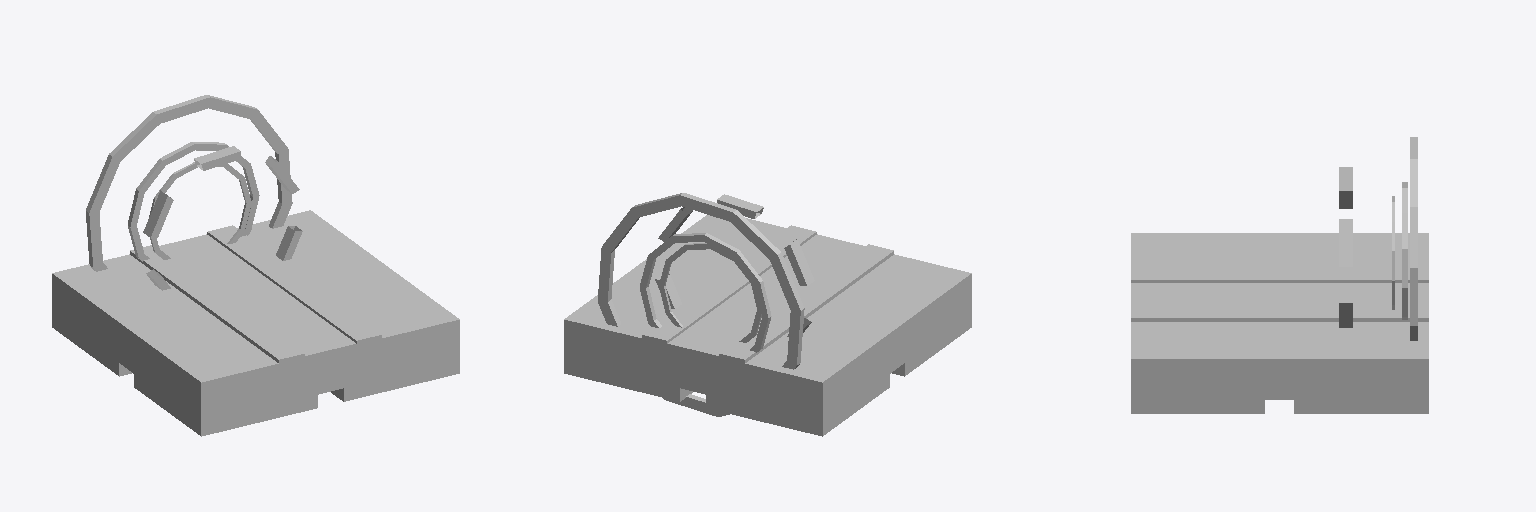
The model's file is puzzlePiece_portal.obj.
3 views of the same model, side by side, from view 1: azimuth 30°, elevation 25°; view 2: azimuth 150°, elevation 25°; view 3: azimuth 270°, elevation 25° (orthographic).
Visible parts, largest first — view 1: pCube1, polySurface5, polySurface2 pCube5, pPipe3, pPipe4, pPipe2, pPipe1; view 2: pCube1, polySurface5, pPipe3, polySurface2 pCube5, pPipe2, pPipe4, pPipe1; view 3: pCube1, polySurface5, polySurface2 pCube5, pPipe3, pPipe4, pPipe2.
Boxes of the visible parts, box(x1,y1,x2,y2) form: pCube1: box(52, 210, 459, 436); polySurface5: box(130, 225, 381, 366); polySurface2 pCube5: box(159, 234, 356, 357); pPipe3: box(86, 95, 292, 271); pPipe4: box(143, 146, 302, 290); pPipe2: box(128, 142, 259, 261); pPipe1: box(149, 162, 251, 259); pCube1: box(564, 215, 971, 436); polySurface5: box(642, 225, 893, 364); pPipe3: box(598, 193, 804, 416); polySurface2 pCube5: box(667, 234, 864, 356); pPipe2: box(640, 233, 771, 352); pPipe4: box(655, 194, 814, 336); pPipe1: box(659, 243, 761, 342); pCube1: box(1131, 233, 1428, 413); polySurface5: box(1131, 267, 1428, 321); polySurface2 pCube5: box(1131, 283, 1428, 304); pPipe3: box(1410, 137, 1417, 340); pPipe4: box(1339, 167, 1352, 327); pPipe2: box(1402, 182, 1407, 319).
Bounding box in the file's own units: 0.5 × 0.393 × 0.5.